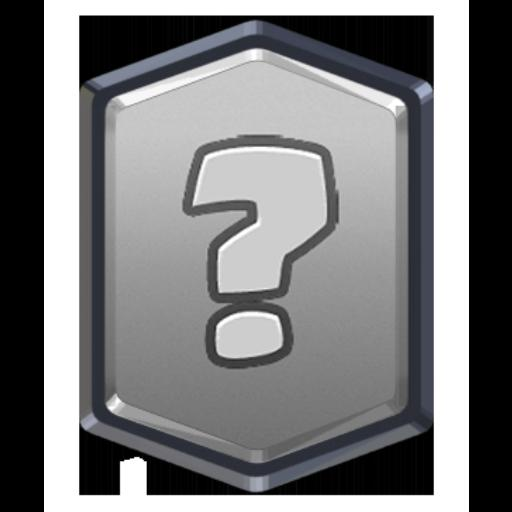mystery-card: (96, 52, 410, 460)
